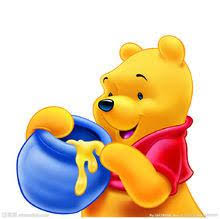Winnie: (82, 35, 198, 166)
